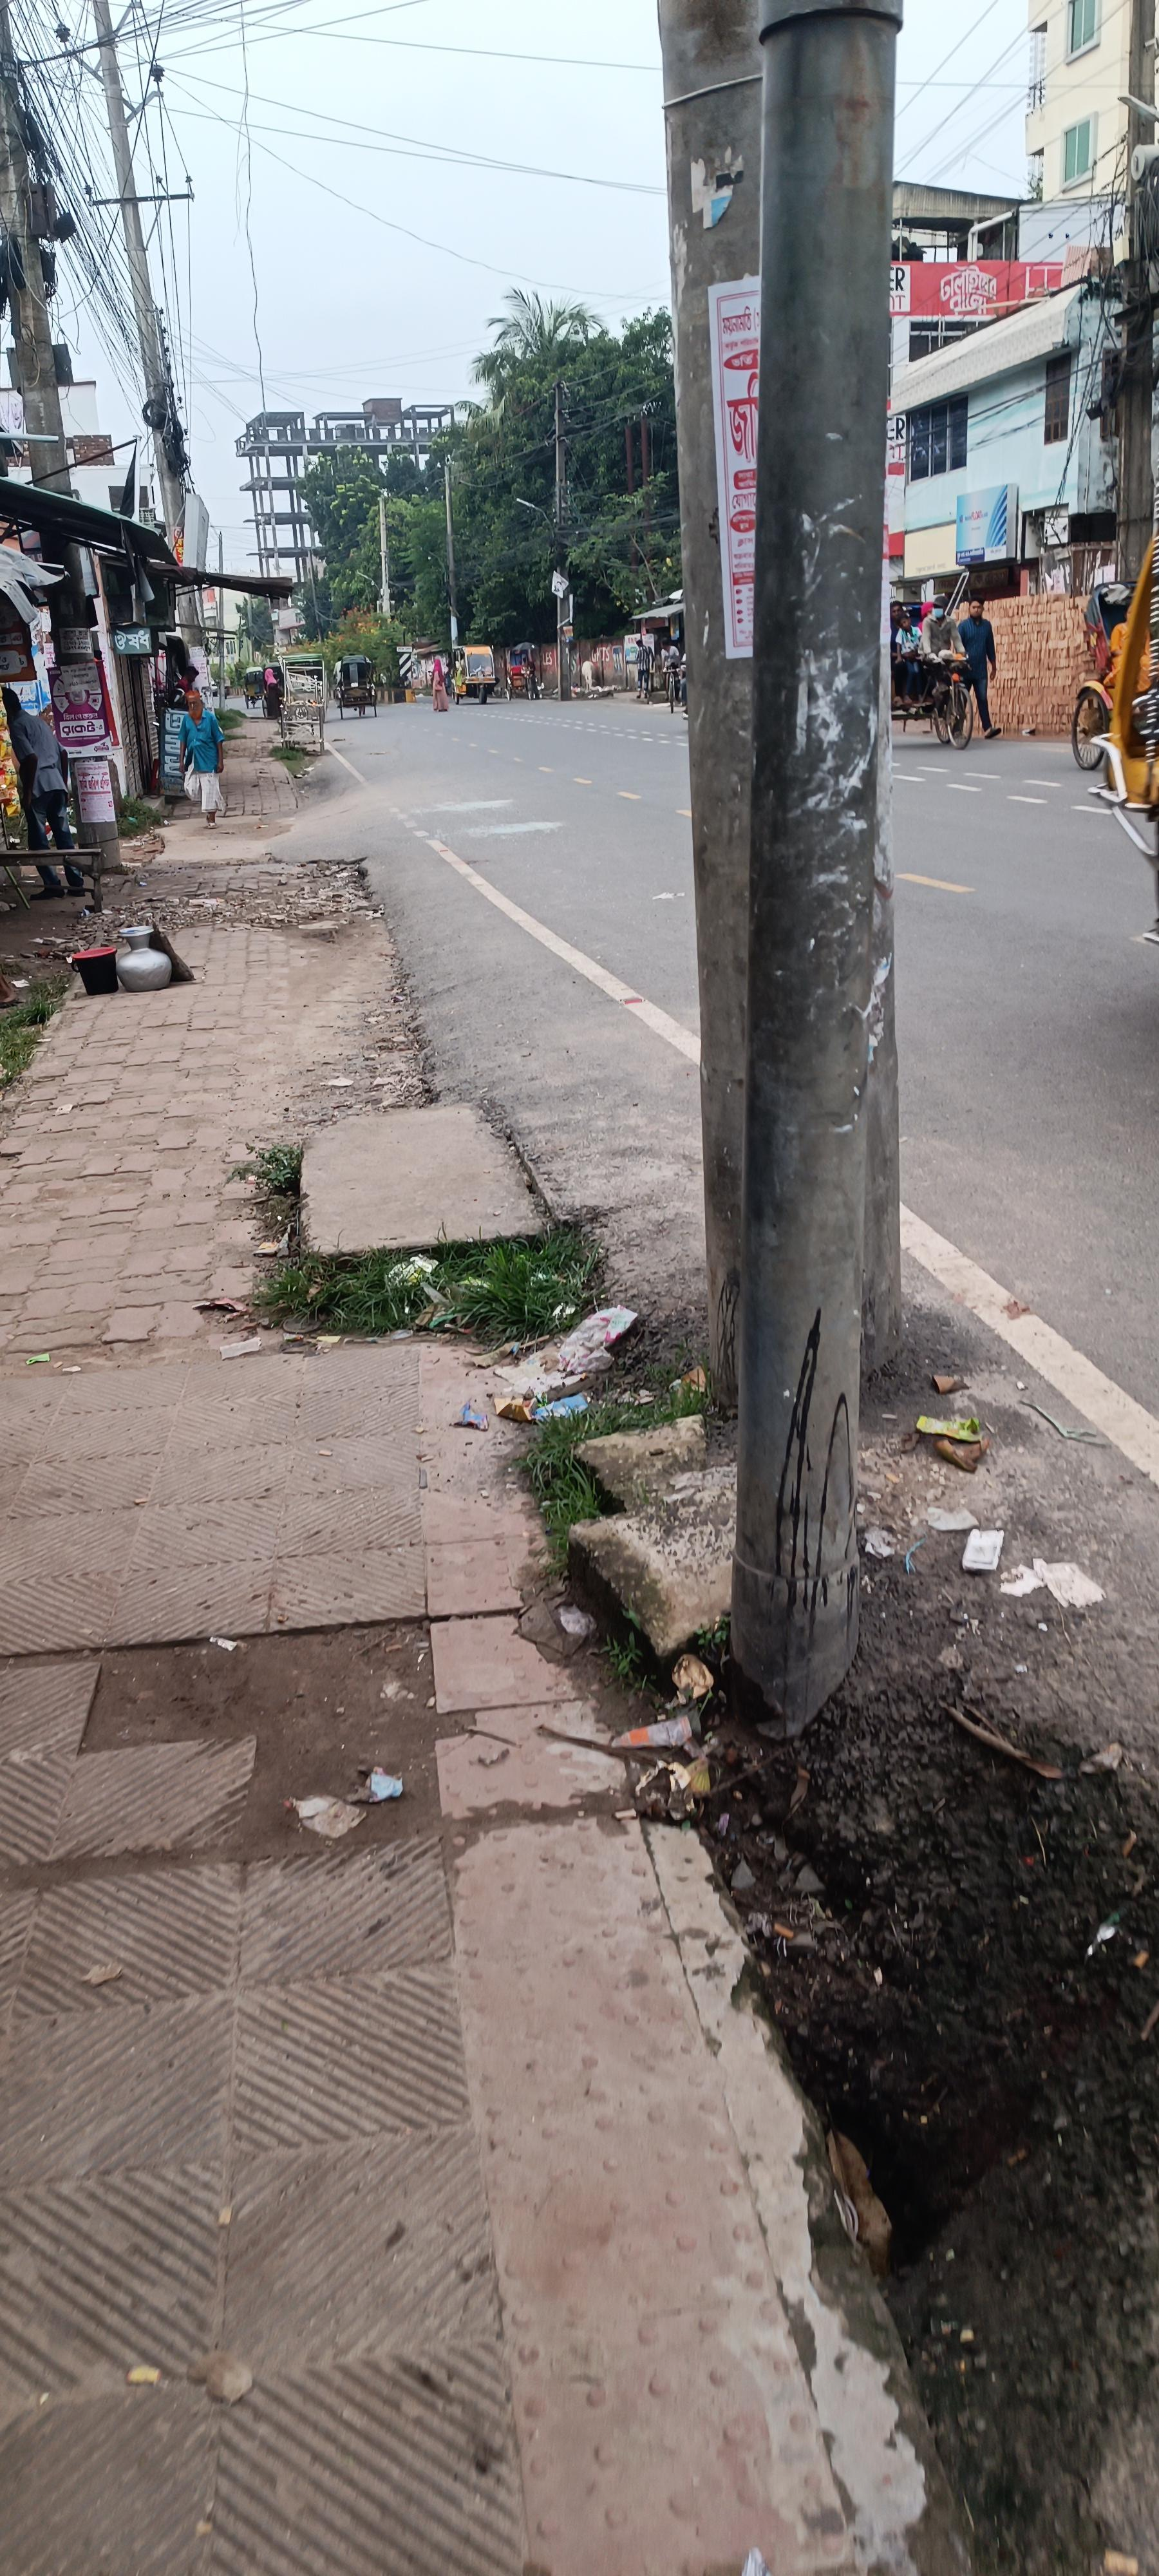Garbage-bin: (2, 685, 94, 900), (957, 600, 1001, 739), (181, 688, 225, 826), (891, 608, 923, 708), (634, 636, 653, 701), (264, 664, 284, 720)
Light-pole: (731, 2, 903, 1738)
Pothole: (3, 808, 934, 2571)
